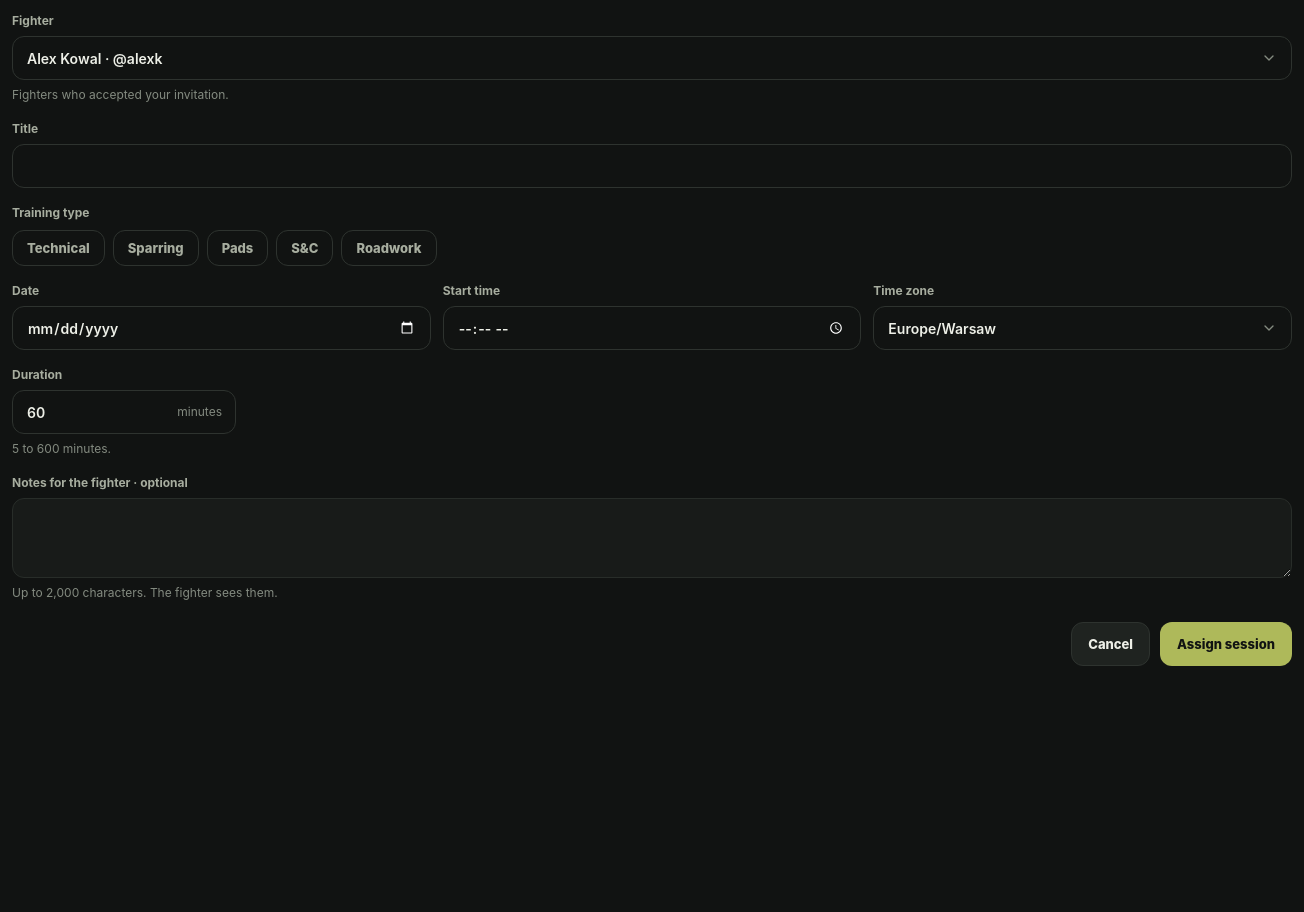
CreateTrainingSessionForm › checks the fields before sending anything
Expected: the field labelled "Title" is shown, [12,144,1292,188]
Replace the text in the field labelled "Duration" with "4" at (124, 412), box [12,390,236,434]
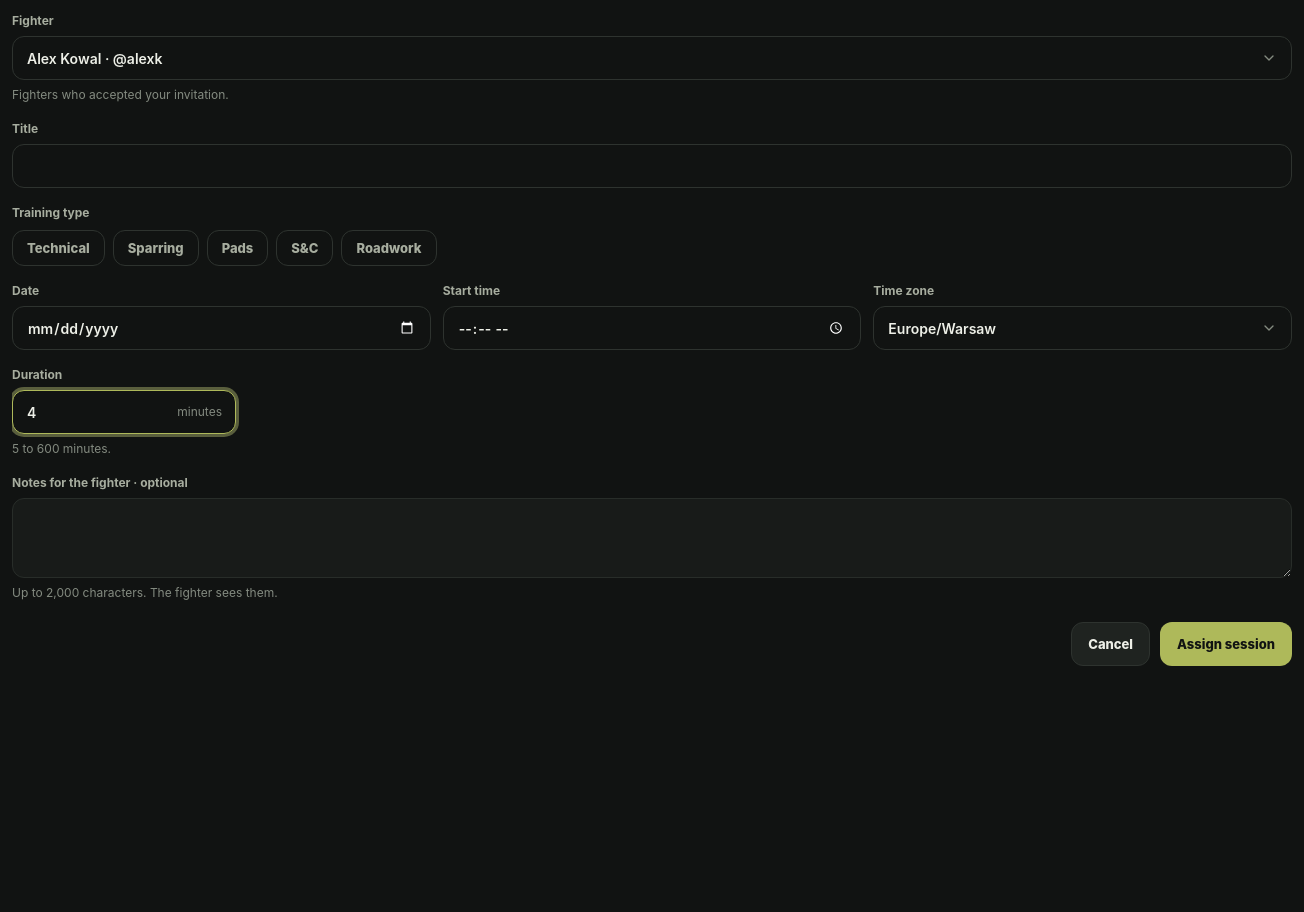
Click the button "Assign session" at (1226, 644), box [1160,622,1292,666]
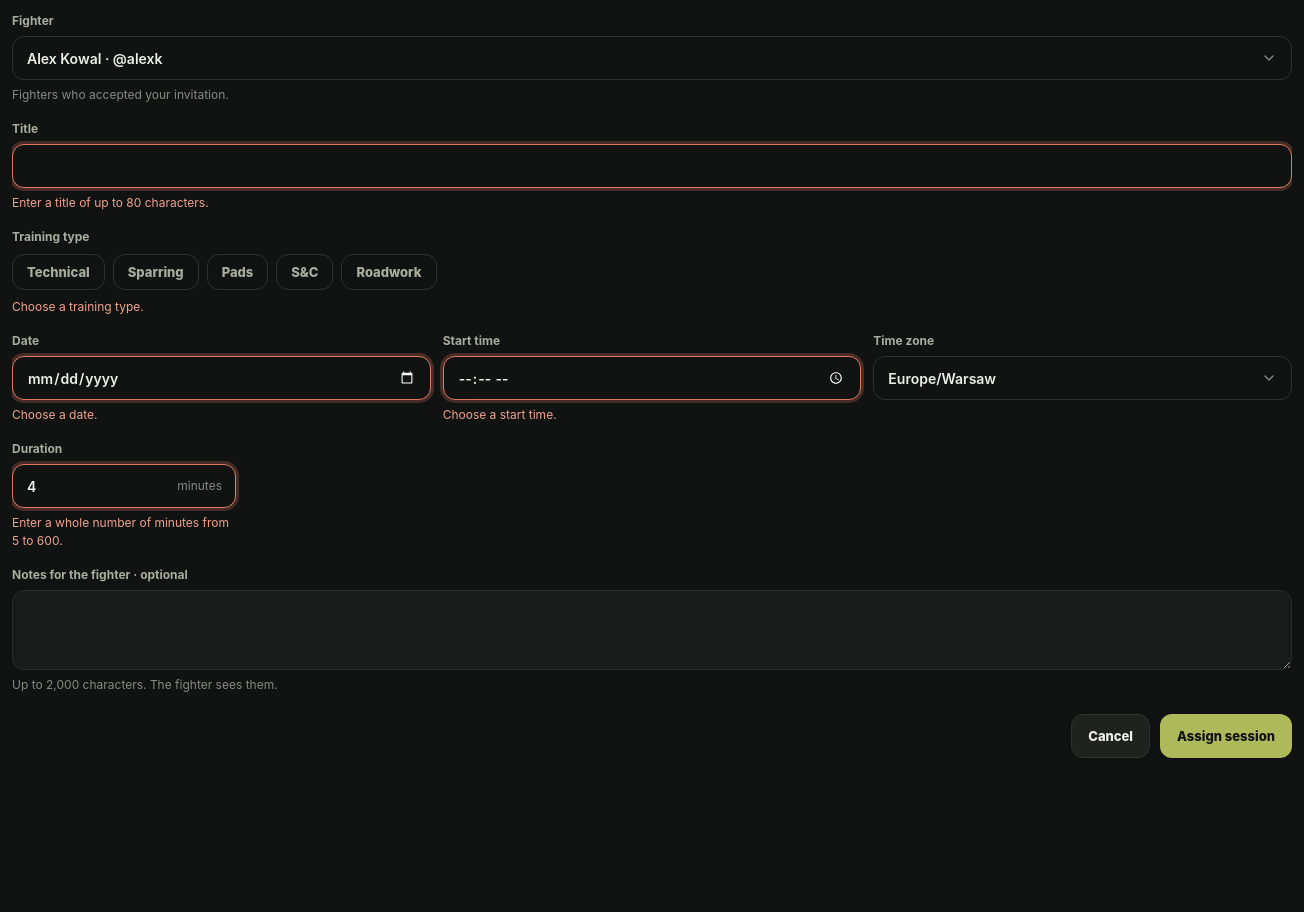
Now the text "Enter a title of up to 80 characters." is shown, box [12,195,209,210]
Now the text "Choose a training type." is shown, box [12,299,144,314]
Now the text "Enter a whole number of minutes from 5 to 600." is shown, box [12,514,236,550]
